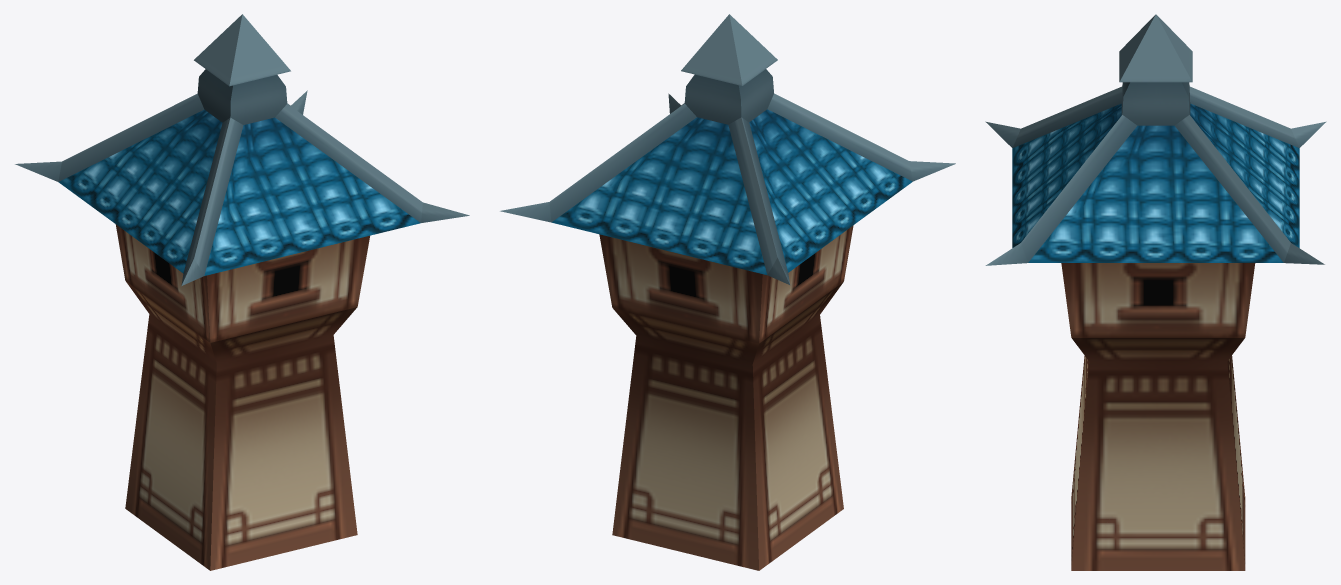
The model's file is QSMY_City_TaLou.FBX.
The picture shows the model from 3 angles, left to right: view 1: azimuth 30°, elevation 25°; view 2: azimuth 150°, elevation 25°; view 3: azimuth 270°, elevation 25°; orthographic projection. The views are drawn at different scales.
Visible parts, largest first — view 1: Object132; view 2: Object132; view 3: Object132.
Part boxes in pixels (x1,y1,x2,y2): Object132: (15,14,469,570); Object132: (500,14,955,570); Object132: (985,14,1326,570).
Bounding box in the file's own units: 11 × 18.27 × 10.87.
